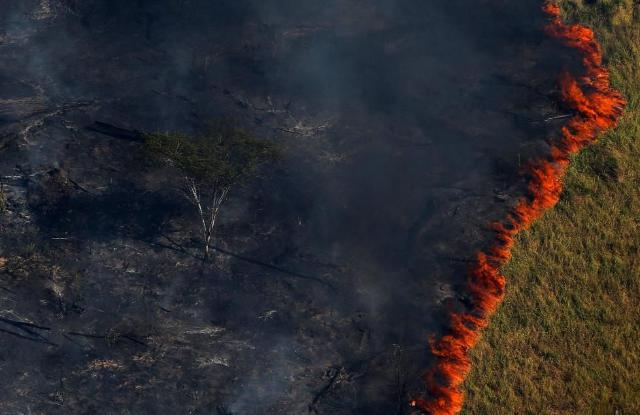fire: (575, 92, 623, 114), (585, 62, 609, 92), (526, 182, 560, 203), (476, 266, 504, 290), (572, 115, 616, 130), (441, 333, 465, 359), (560, 129, 596, 146), (533, 161, 563, 180), (440, 361, 468, 381), (476, 287, 502, 307), (420, 401, 460, 414), (512, 204, 542, 221), (462, 309, 491, 324), (561, 72, 577, 99), (438, 382, 462, 400), (562, 25, 592, 39), (545, 146, 569, 162), (489, 222, 517, 235), (461, 325, 479, 345), (489, 245, 508, 260), (588, 42, 600, 63), (448, 313, 460, 333), (542, 0, 560, 12), (544, 23, 560, 36), (571, 39, 593, 48), (426, 337, 436, 354), (502, 233, 514, 247), (474, 252, 484, 267), (554, 14, 558, 24)
